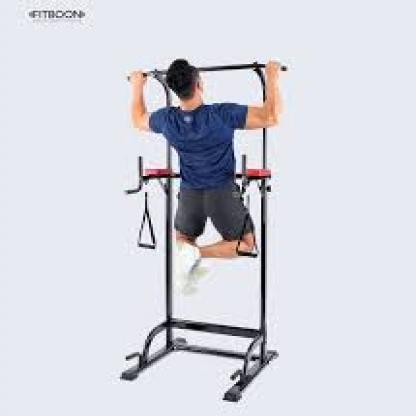chinning dipping: (120, 64, 289, 404)
